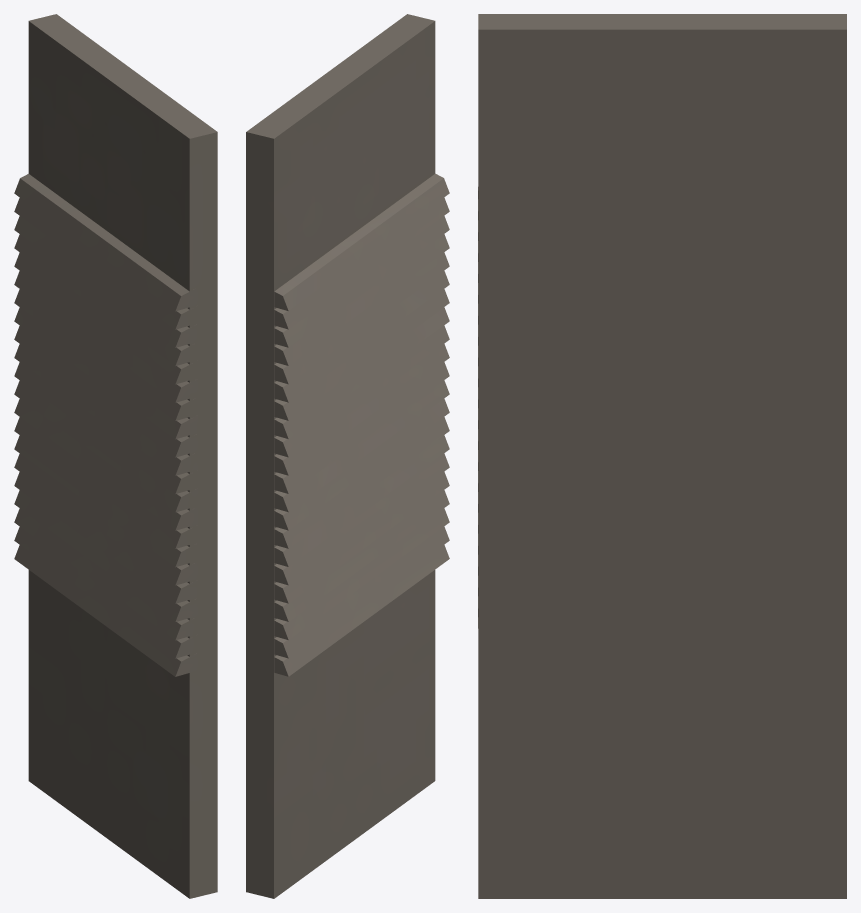
3 views of the same model, side by side, from view 1: azimuth 30°, elevation 25°; view 2: azimuth 150°, elevation 25°; view 3: azimuth 270°, elevation 25° (orthographic). The views are drawn at different scales.
Visible parts, largest first — view 1: SM_H1_D2; view 2: SM_H1_D2; view 3: SM_H1_D2.
Part boxes in pixels (<box>): SM_H1_D2: <box>14,14,217,898</box>; SM_H1_D2: <box>246,14,449,898</box>; SM_H1_D2: <box>478,14,846,898</box>.
Bounding box in the file's own units: 9.43 × 62.04 × 161.
1 material, 1 textured.
